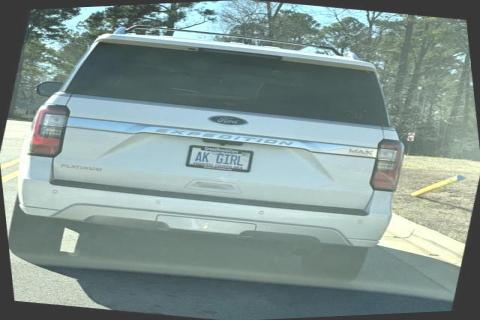LicensePlate: (182, 143, 252, 172)
